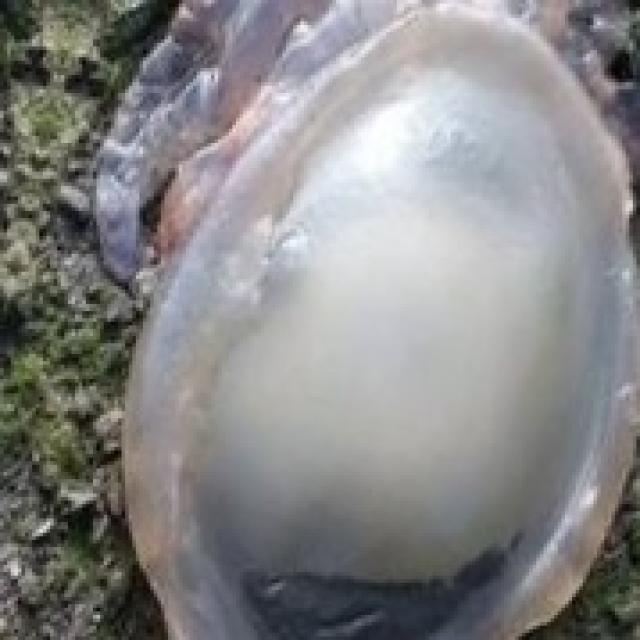Box-jellyfish: (92, 0, 636, 636)
